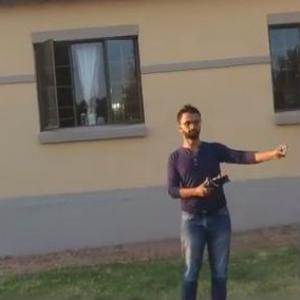follow: (163, 100, 294, 299)
